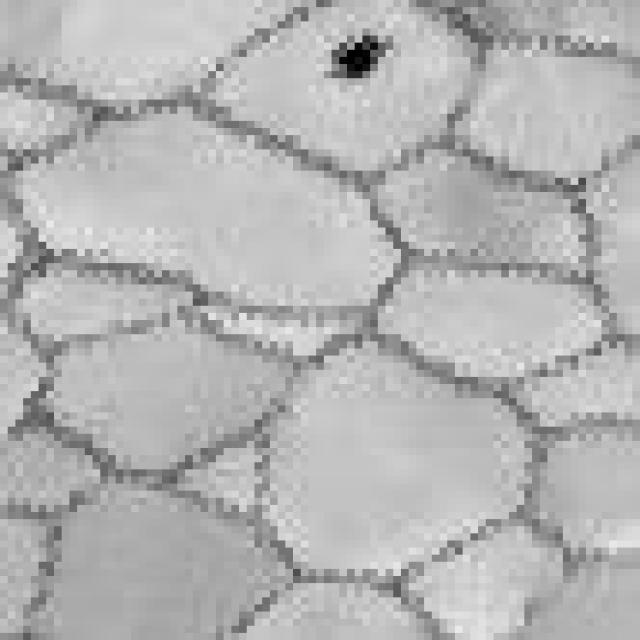good_void: (325, 26, 399, 85)
